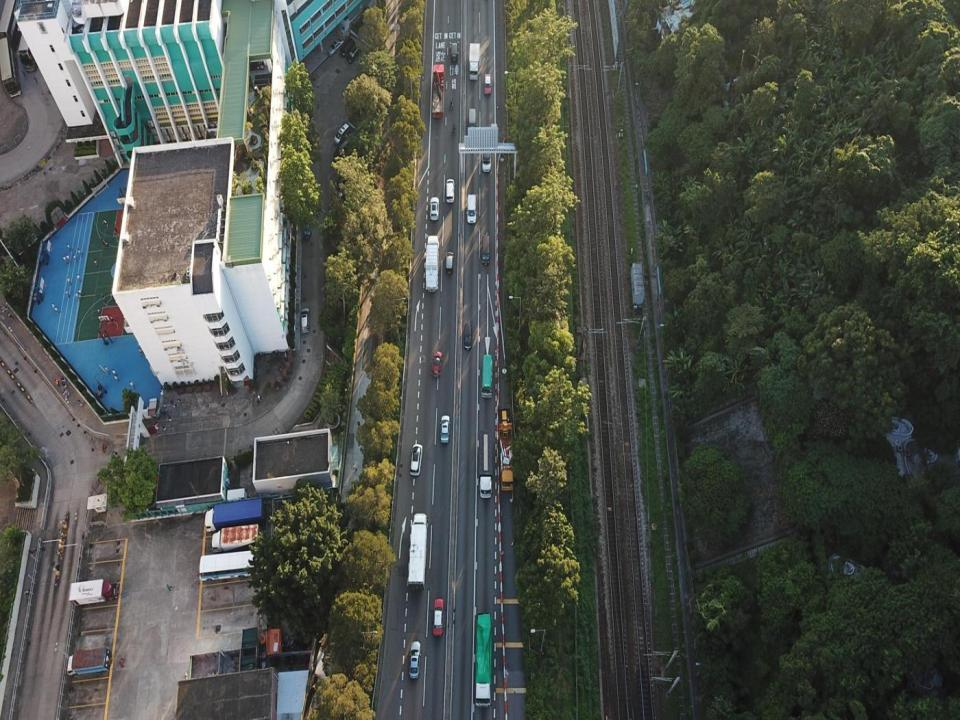bus: (198, 549, 260, 581), (18, 5, 39, 71), (0, 37, 23, 97), (0, 0, 23, 41), (481, 354, 492, 397)
car: (332, 138, 352, 161), (409, 641, 421, 678), (433, 598, 444, 634), (410, 444, 422, 477), (327, 37, 344, 56), (346, 46, 362, 64), (428, 197, 440, 221), (431, 351, 442, 377), (466, 195, 476, 223), (330, 191, 343, 212), (300, 307, 310, 334), (440, 415, 449, 443), (337, 171, 349, 191), (464, 323, 472, 350), (445, 251, 454, 274), (482, 148, 490, 173), (302, 219, 310, 240), (484, 74, 492, 95)
truck: (497, 406, 516, 490), (476, 613, 492, 707), (409, 514, 428, 590), (68, 579, 118, 606), (68, 648, 110, 675), (477, 430, 493, 498), (425, 234, 439, 290), (432, 64, 445, 117), (469, 43, 479, 80)
van: (205, 498, 265, 534), (210, 524, 260, 551), (334, 122, 350, 144), (338, 37, 355, 55), (445, 179, 455, 203), (482, 236, 490, 264), (468, 108, 476, 134), (452, 41, 458, 61)
